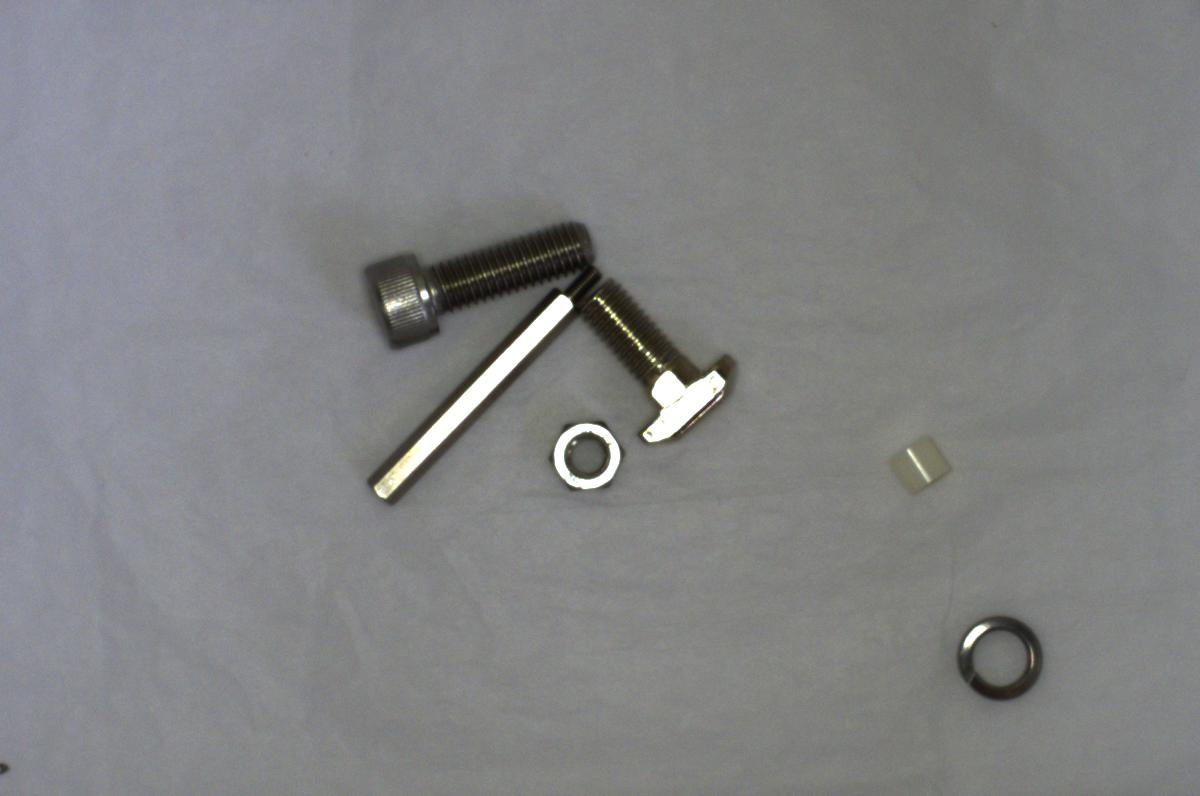Hexagon nut: (546, 416, 630, 496)
Hexagon screw: (352, 219, 608, 345)
Hexagonal steel column: (367, 267, 602, 510)
Plastic cushion pillar: (880, 421, 962, 503)
Spring washer: (944, 607, 1051, 706)
T-shaped screw: (578, 275, 755, 449)
